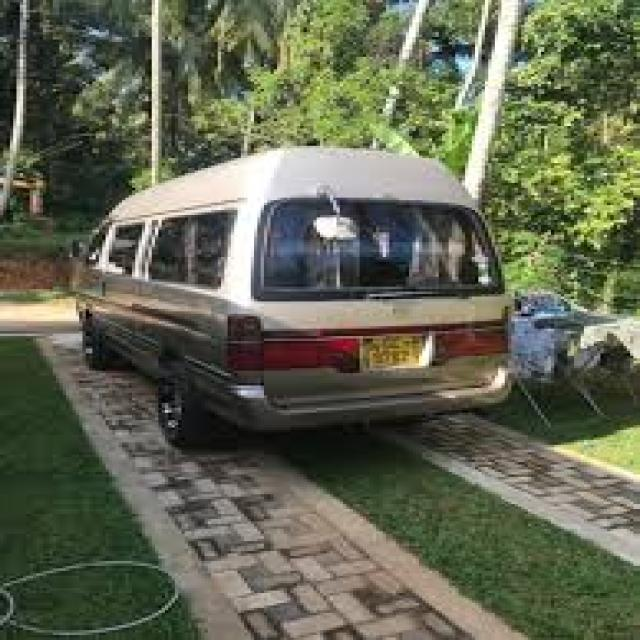van: (79, 148, 508, 440)
